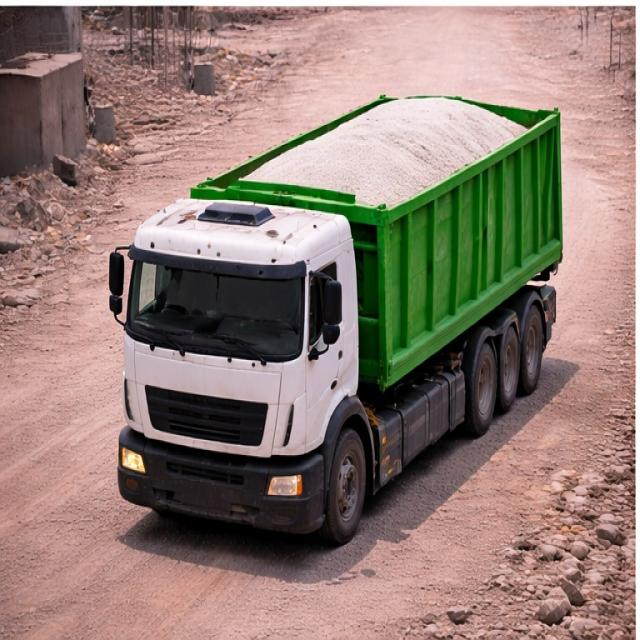Box: (202, 86, 562, 216)
Truck: (105, 59, 580, 546)
